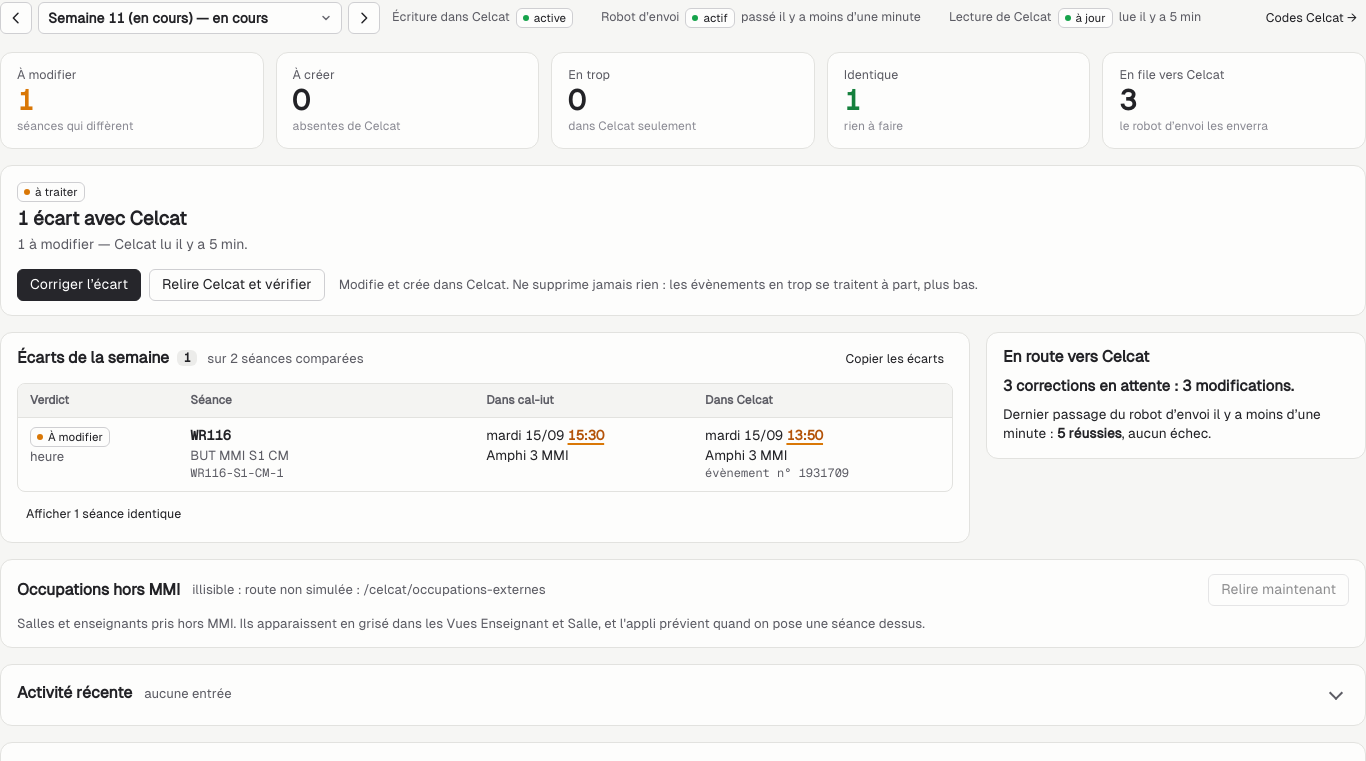
Corriger va jusqu'à la vérification › dit où l'attente s'est arrêtée quand le worker ne repasse pas, sans rien perdre
Click the button "Corriger l’écart". click: {"x": 79, "y": 285}
box: [17, 269, 141, 301]
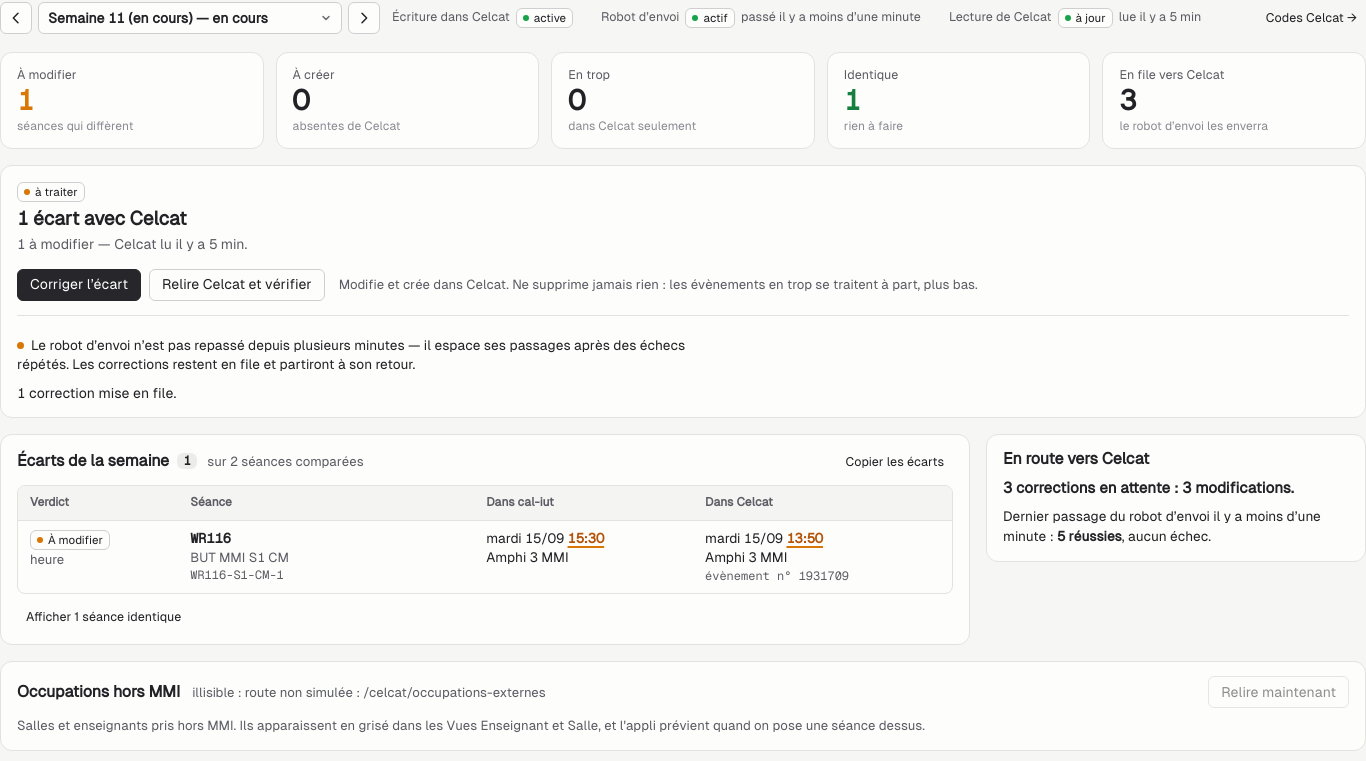
Expected: the message with test id "suivi-boucle" shows "restent en file", [17, 337, 685, 372]
